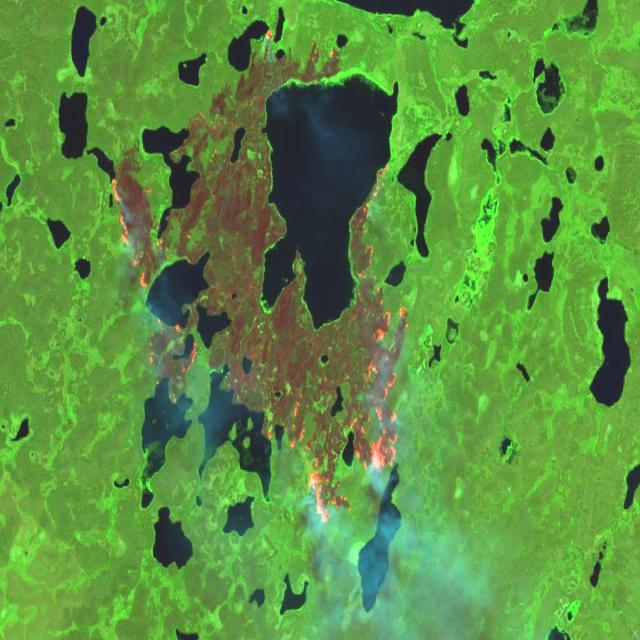fire: (105, 171, 413, 529)
